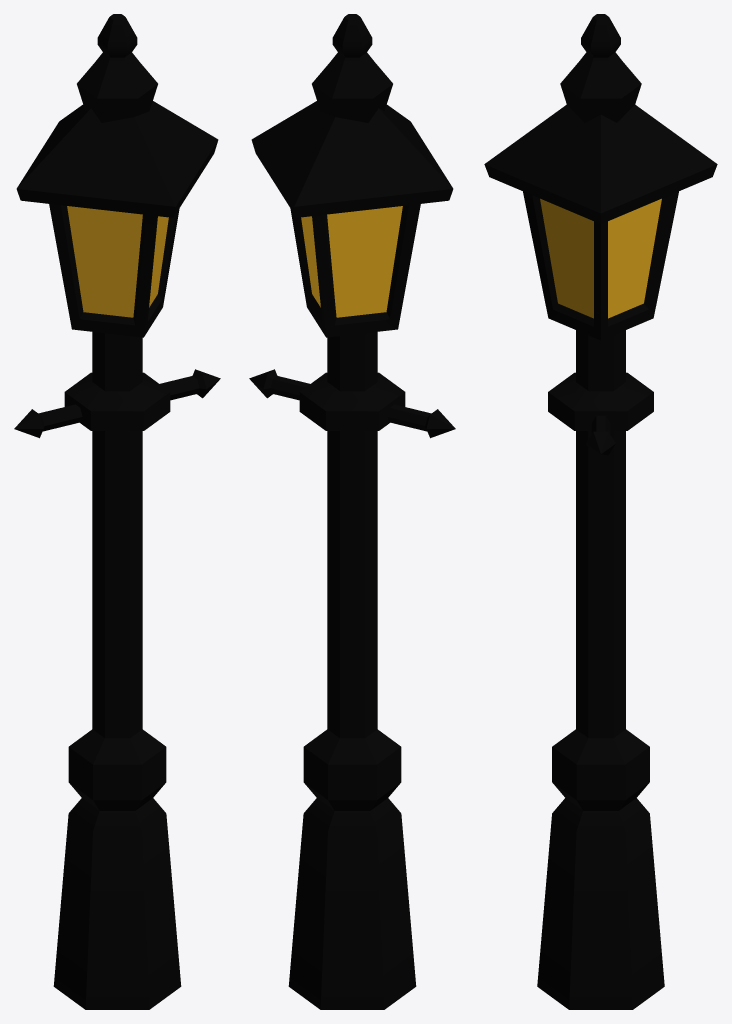
Rendered from lampPost.glb.
3 renders of one model, left to right at view 1: azimuth 30°, elevation 25°; view 2: azimuth 150°, elevation 25°; view 3: azimuth 270°, elevation 25°, orthographic.
Parts seen in each view (by area): view 1: lampPost; view 2: lampPost; view 3: lampPost.
Boxes of the visible parts, x1,y1,x2,y2 form: lampPost: [14, 14, 220, 1009]; lampPost: [249, 14, 455, 1009]; lampPost: [484, 14, 717, 1009].
Bounding box in the file's own units: 0.2011 × 0.9 × 0.1962.
